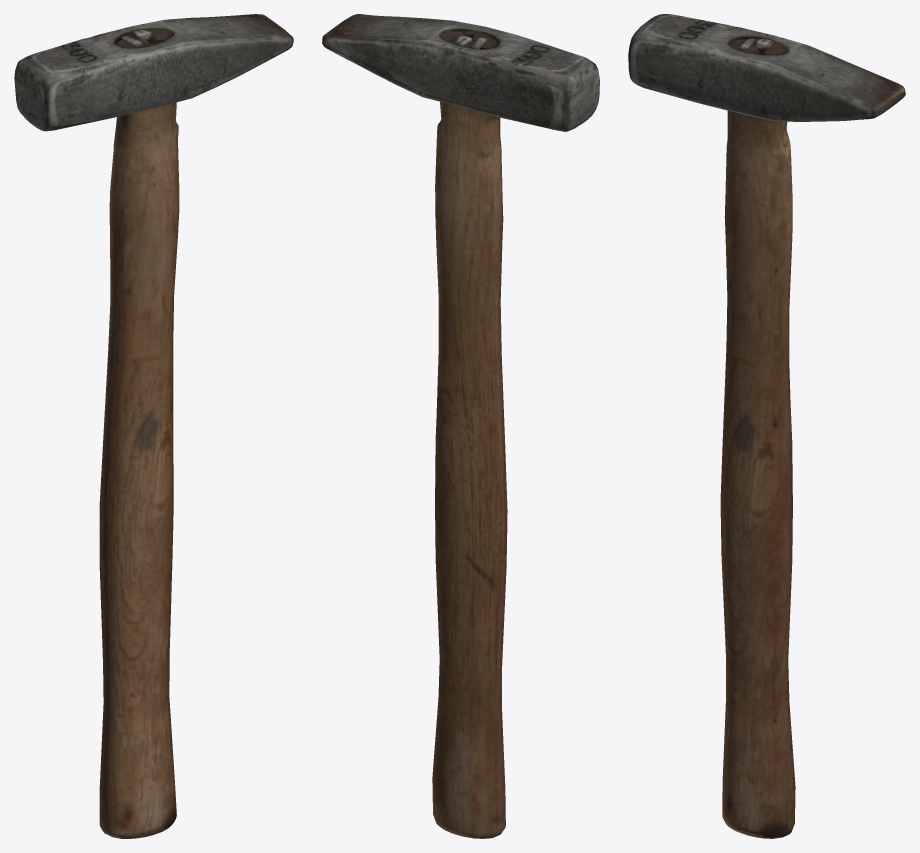
The model's file is cross_pein_hammer.glb.
3 renders of one model, left to right at view 1: azimuth 30°, elevation 25°; view 2: azimuth 150°, elevation 25°; view 3: azimuth 330°, elevation 25°, orthographic.
Visible parts, largest first — view 1: cross_pein_hammer; view 2: cross_pein_hammer; view 3: cross_pein_hammer.
Boxes of the visible parts, x1,y1,x2,y2 form: cross_pein_hammer: (14, 14, 293, 838); cross_pein_hammer: (322, 14, 599, 838); cross_pein_hammer: (628, 14, 905, 838).
Size of the model in its own units: 0.0991 by 0.3002 by 0.0243.
1 material, 1 textured.
